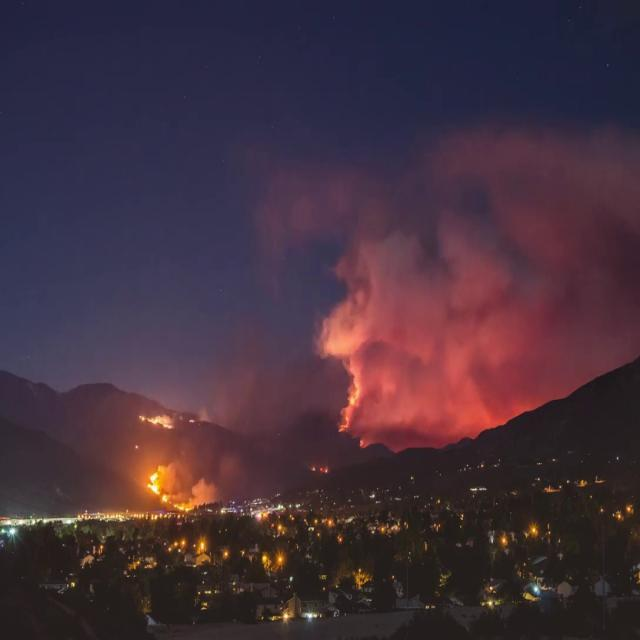Fire: (140, 410, 174, 428), (162, 494, 193, 511), (148, 472, 162, 494), (338, 414, 350, 432), (318, 466, 328, 473)
Smoke: (212, 356, 250, 431), (214, 446, 248, 502), (343, 352, 370, 389), (192, 471, 215, 504), (194, 397, 212, 425)
